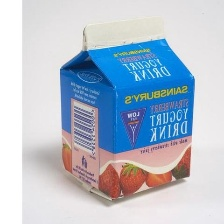carton: (56, 12, 200, 208)
